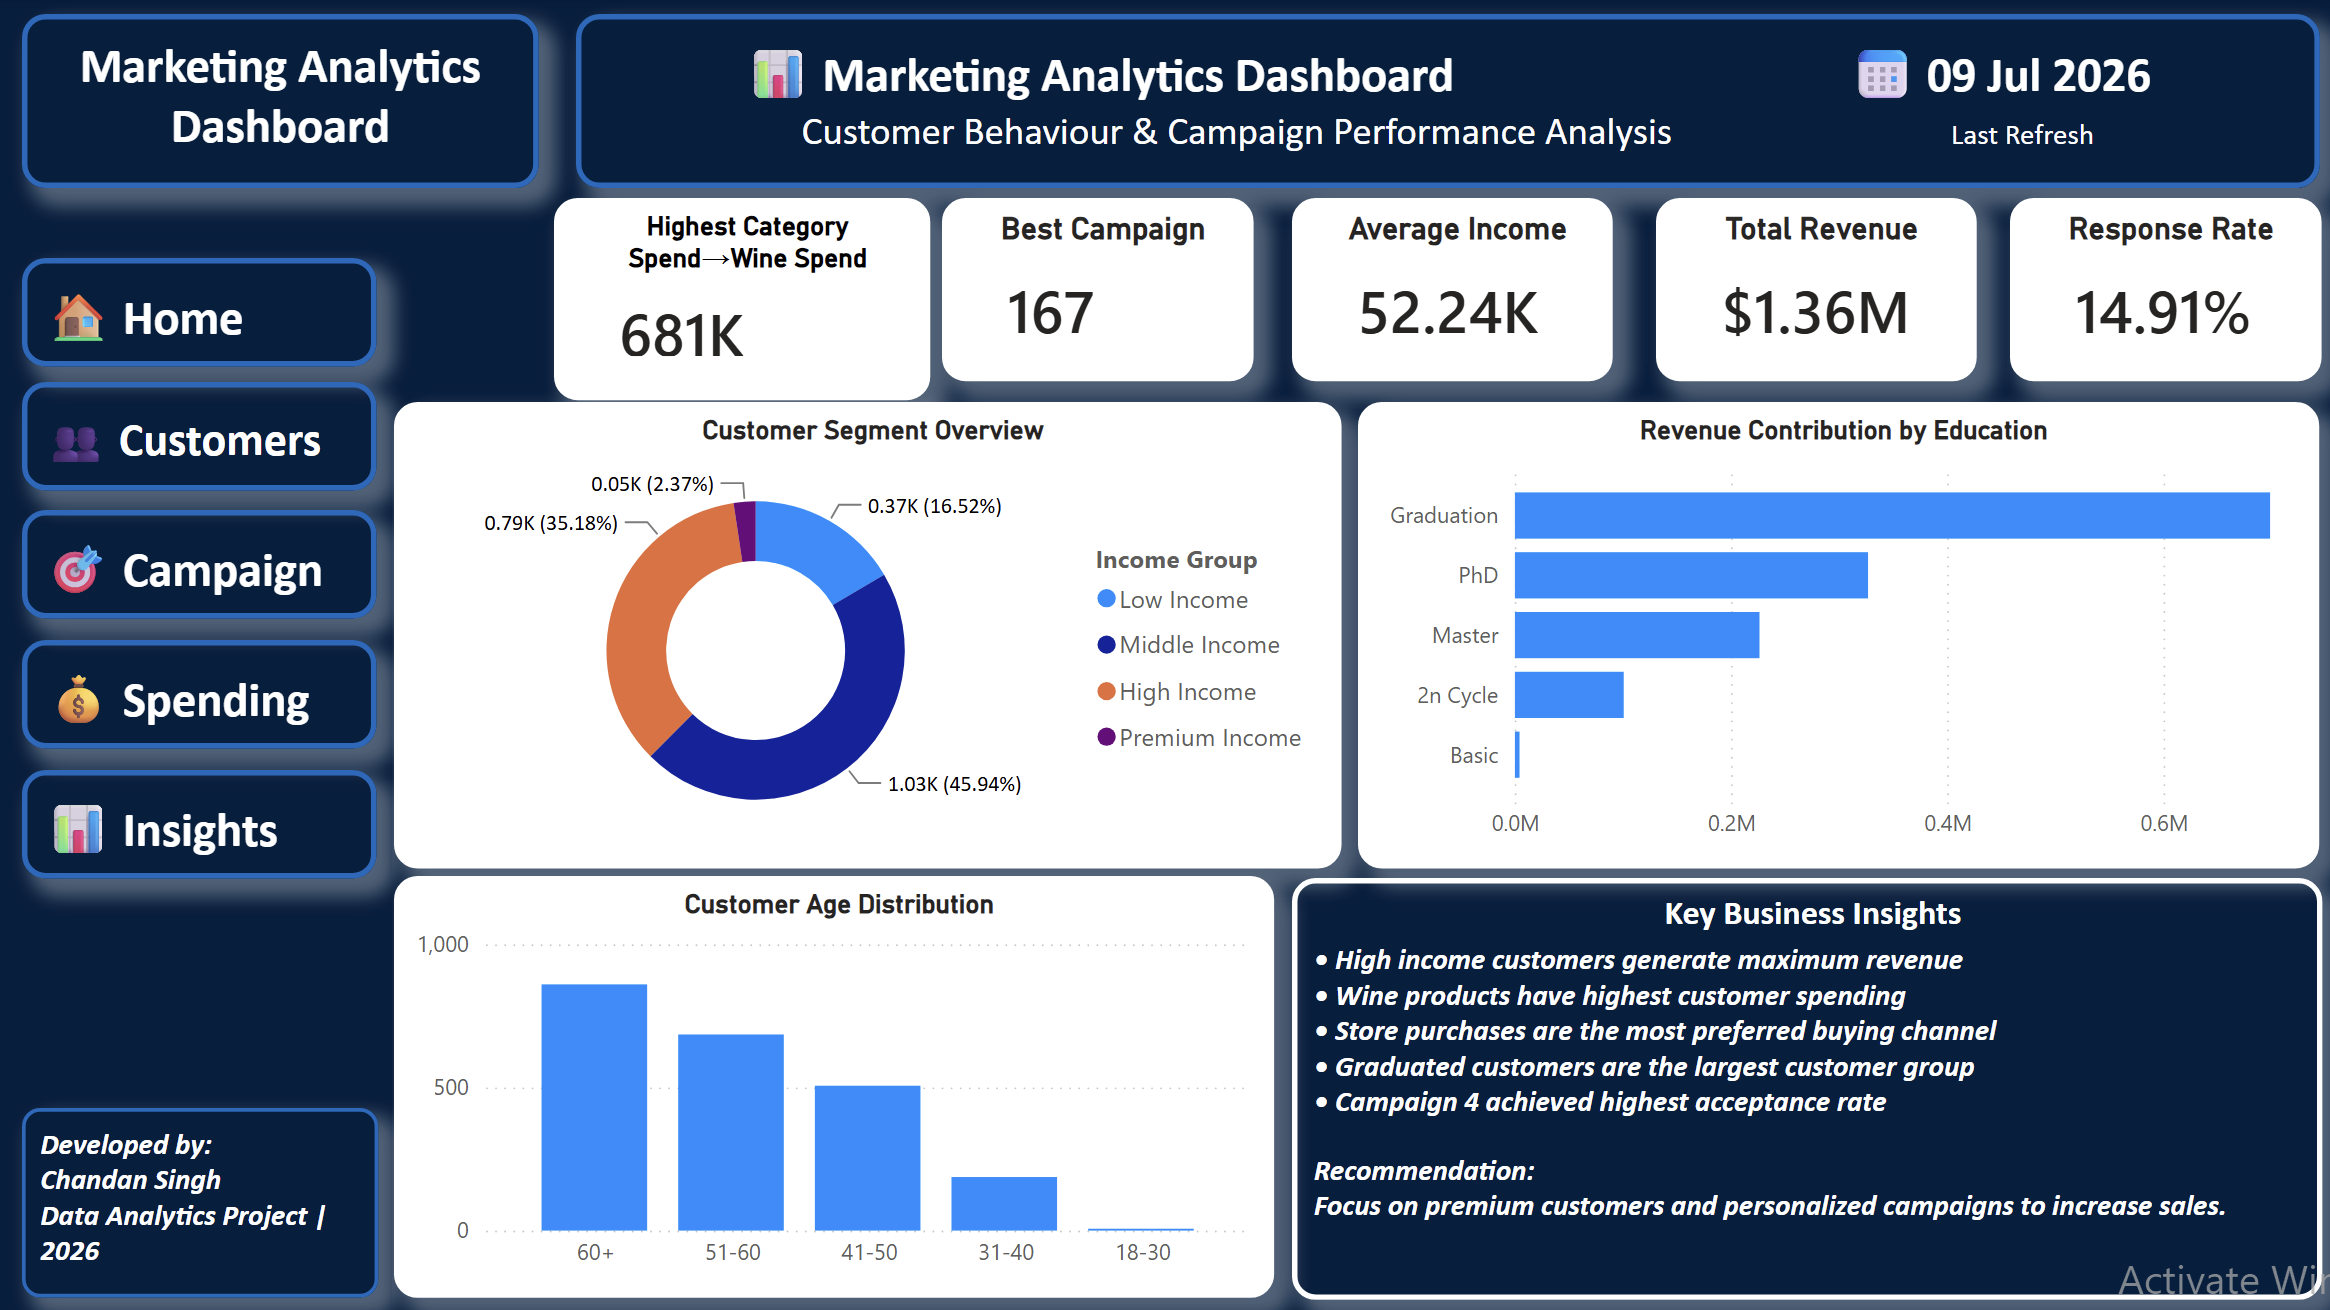

The page's visual inventory and layout, read from the dashboard file:
{"tool":"powerbi","page":{"name":"Insights","canvas":[1280,720],"ordinal":4},"visuals":[{"type":"cardVisual","title":"Highest Category Spend→Wine Spend","fields":{"Data":["CountNonNull(marketing_campaign.MntWines)"]},"box":[324.3,110.2,174,110],"z":0},{"type":"cardVisual","title":"Average Income","fields":{"Data":["Avg(marketing_campaign.Income)"]},"box":[517.4,110.2,171,100.3],"z":1000},{"type":"cardVisual","title":"Best Campaign ","fields":{"Data":["Sum(marketing_campaign.AcceptedCmp4)"]},"box":[709.3,110.2,176,100.3],"z":2000},{"type":"cardVisual","title":"Total Revenue","fields":{"Data":["Sum(marketing_campaign.Total_Spend)"]},"box":[908.6,110.2,176,100.3],"z":3000},{"type":"cardVisual","title":"Response Rate","fields":{"Data":["marketing_campaign.Response Rate %"]},"box":[1103,110.2,171,100.3],"z":4000},{"type":"donutChart","title":"Customers Segment Overview","fields":{"Y":["CountNonNull(marketing_campaign.ID)"],"Category":["marketing_campaign.Income Group"]},"box":[216.6,221.6,562,256.2],"z":6000},{"type":"columnChart","title":"Customer Age Distribution","fields":{"Category":["marketing_campaign.Age Group"],"Y":["CountNonNull(marketing_campaign.ID)"]},"box":[216.6,481.5,492.7,231.5],"z":8000},{"type":"clusteredBarChart","title":"Revenue Contribution by Education","fields":{"Category":["marketing_campaign.Education"],"Y":["Sum(marketing_campaign.Total_Spend)"]},"box":[787.3,220.3,485.3,256.2],"z":9000},{"type":"textbox","box":[315.7,8.7,956.9,95.3],"z":10000},{"type":"textbox","title":"Key Business Insights","box":[720.5,482.8,554.6,230.3],"z":11000},{"type":"shape","box":[0,141.9,215.4,578.1],"z":12000},{"type":"textbox","box":[12.4,8.7,283.5,95.3],"z":13000},{"type":"actionButton","box":[12.4,142.4,194.4,59.4],"z":14000},{"type":"actionButton","box":[12.4,210.4,194.4,59.4],"z":15000},{"type":"actionButton","box":[12.4,281,194.4,59.4],"z":16000},{"type":"actionButton","box":[12.4,352.8,194.4,59.4],"z":17000},{"type":"actionButton","box":[12.4,423.4,194.4,59.4],"z":18000},{"type":"textbox","box":[12.4,609.1,195.6,104],"z":19000}]}

Visuals, with their boxes in screenshot pixels (x1, y1, x2, y2), scaled from the page's 1280x720 canvas onto the 2330x1310 screenshot:
"Highest Category Spend→Wine Spend" cardVisual: 590, 201, 907, 401
"Average Income" cardVisual: 942, 201, 1253, 383
"Best Campaign " cardVisual: 1291, 201, 1612, 383
"Total Revenue" cardVisual: 1654, 201, 1974, 383
"Response Rate" cardVisual: 2008, 201, 2319, 383
"Customers Segment Overview" donutChart: 394, 403, 1417, 869
"Customer Age Distribution" columnChart: 394, 876, 1291, 1297
"Revenue Contribution by Education" clusteredBarChart: 1433, 401, 2317, 867
textbox: 575, 16, 2317, 189
"Key Business Insights" textbox: 1312, 878, 2321, 1297
shape: 0, 258, 392, 1309
textbox: 23, 16, 539, 189
actionButton: 23, 259, 376, 367
actionButton: 23, 383, 376, 491
actionButton: 23, 511, 376, 619
actionButton: 23, 642, 376, 750
actionButton: 23, 770, 376, 878
textbox: 23, 1108, 379, 1297
